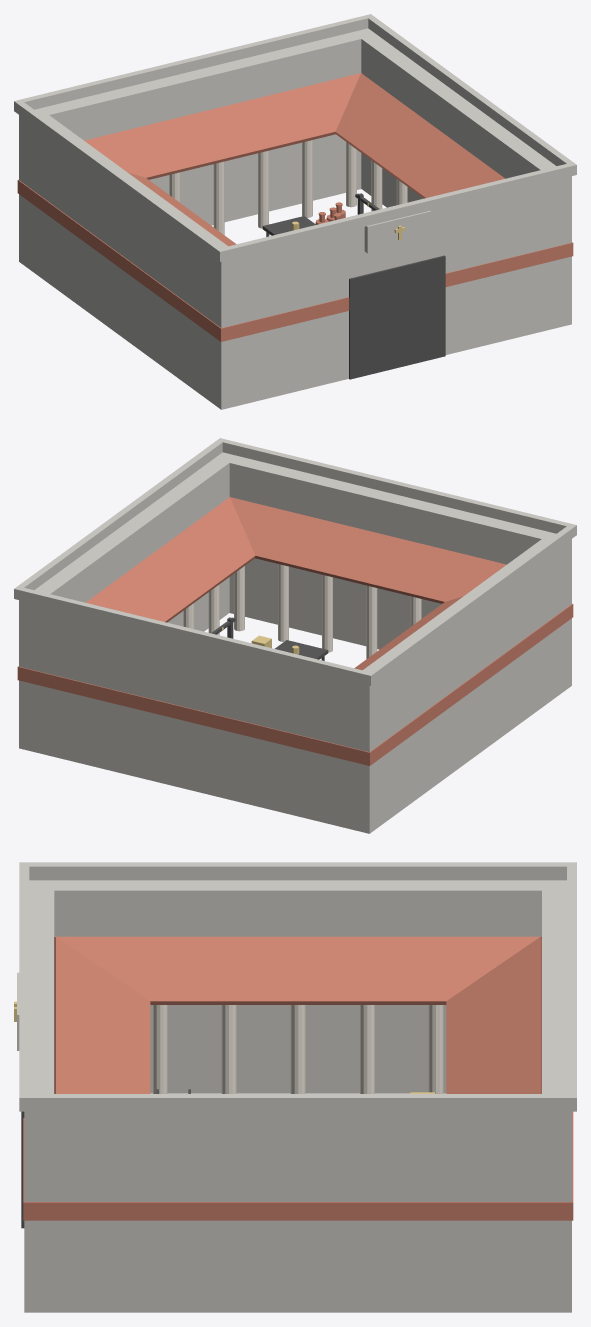
File: Caravansary_Byzantine.fbx
The picture shows the model from 3 angles, top to bottom: view 1: azimuth 30°, elevation 25°; view 2: azimuth 150°, elevation 25°; view 3: azimuth 270°, elevation 25°; orthographic projection. The views are drawn at different scales.
Visible parts, largest first — view 1: Caravansary_Byzantine_Mesh; view 2: Caravansary_Byzantine_Mesh; view 3: Caravansary_Byzantine_Mesh.
Part boxes in pixels (<box>): Caravansary_Byzantine_Mesh: <box>14,14,576,409</box>; Caravansary_Byzantine_Mesh: <box>14,438,576,833</box>; Caravansary_Byzantine_Mesh: <box>14,862,576,1312</box>.
Size of the model in its own units: 11.2 by 4.8 by 11.31.
